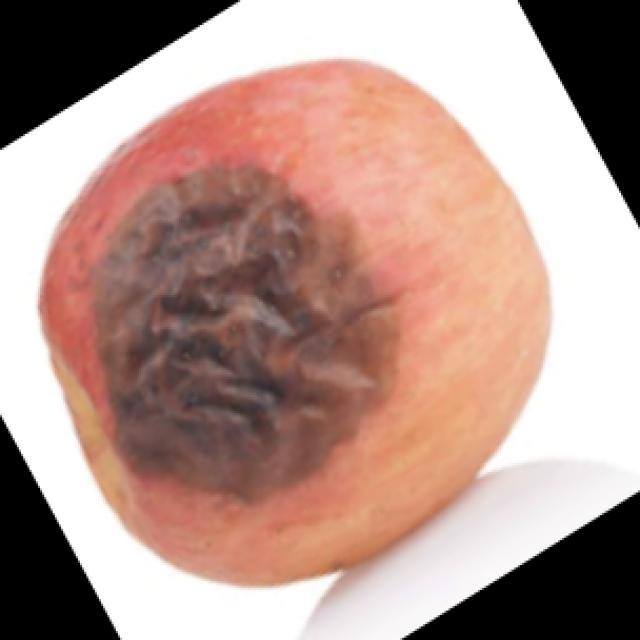Rotten: (58, 58, 517, 605)
